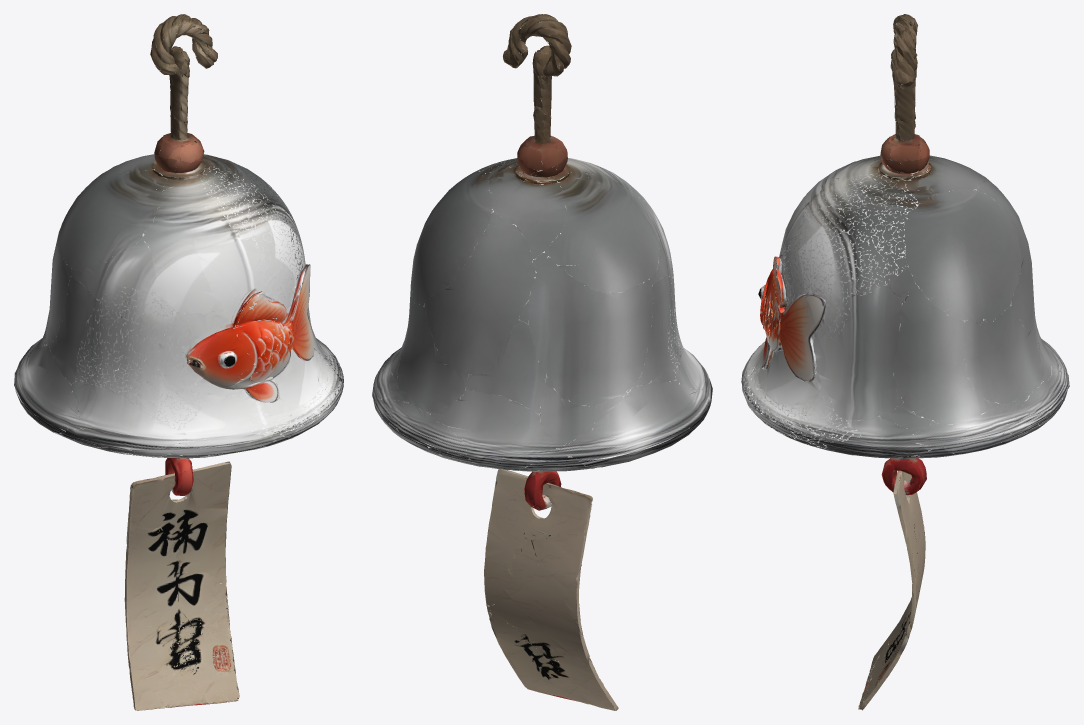
Rendered from chime.glb.
The picture shows the model from 3 angles, left to right: view 1: azimuth 30°, elevation 25°; view 2: azimuth 150°, elevation 25°; view 3: azimuth 270°, elevation 25°; orthographic projection. The views are drawn at different scales.
Parts seen in each view (by area): view 1: node_0; view 2: node_0; view 3: node_0.
Boxes of the visible parts, bbox=[...] form: node_0: bbox=[14, 14, 343, 710]; node_0: bbox=[372, 14, 712, 710]; node_0: bbox=[741, 14, 1069, 710].
Size of the model in its own units: 0.5236 by 1.19 by 0.5213.
Materials: 1 (1 with a texture image).
